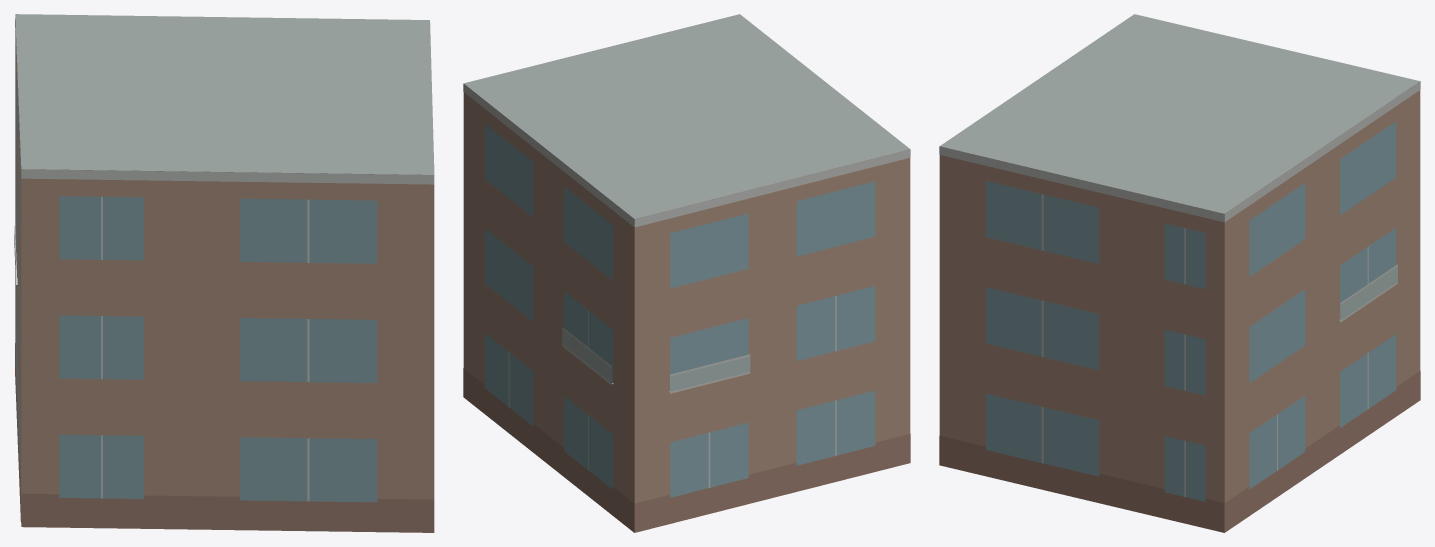
The model's file is survey-upis-32610760.glb.
3 renders of one model, left to right at view 1: azimuth 30°, elevation 25°; view 2: azimuth 150°, elevation 25°; view 3: azimuth 270°, elevation 25°, orthographic. The views are drawn at different scales.
Visible parts, largest first — view 1: survey-upis-32610760.tmp; view 2: survey-upis-32610760.tmp; view 3: survey-upis-32610760.tmp.
Part boxes in pixels (bbox=[...]): survey-upis-32610760.tmp: bbox=[14, 14, 434, 532]; survey-upis-32610760.tmp: bbox=[463, 14, 910, 532]; survey-upis-32610760.tmp: bbox=[939, 14, 1420, 532].
Bounding box in the file's own units: 12.23 × 9.1 × 12.44.
